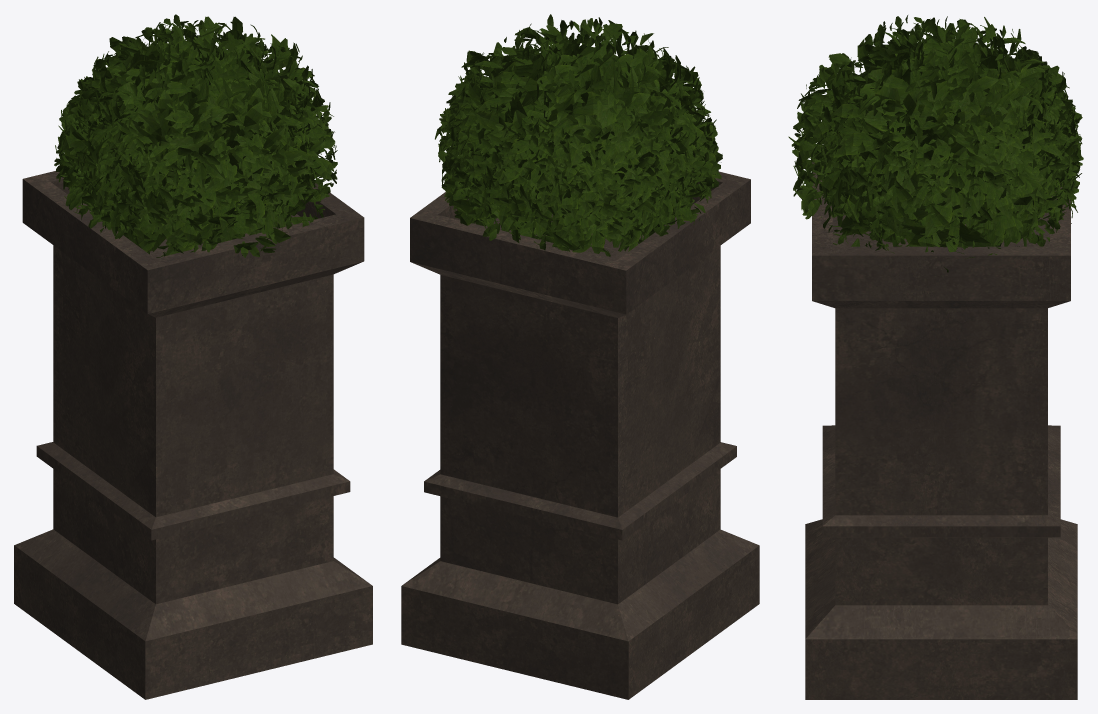
The model's file is INS PLANT MED 2.fbx.
3 views of the same model, side by side, from view 1: azimuth 30°, elevation 25°; view 2: azimuth 150°, elevation 25°; view 3: azimuth 270°, elevation 25° (orthographic). The views are drawn at different scales.
Visible parts, largest first — view 1: INS PLANT MED 2; view 2: INS PLANT MED 2; view 3: INS PLANT MED 2.
Part boxes in pixels (bbox=[...]): INS PLANT MED 2: bbox=[14, 14, 372, 699]; INS PLANT MED 2: bbox=[401, 14, 759, 699]; INS PLANT MED 2: bbox=[788, 15, 1083, 699].
Bounding box in the file's own units: 60.31 × 139 × 60.25.
